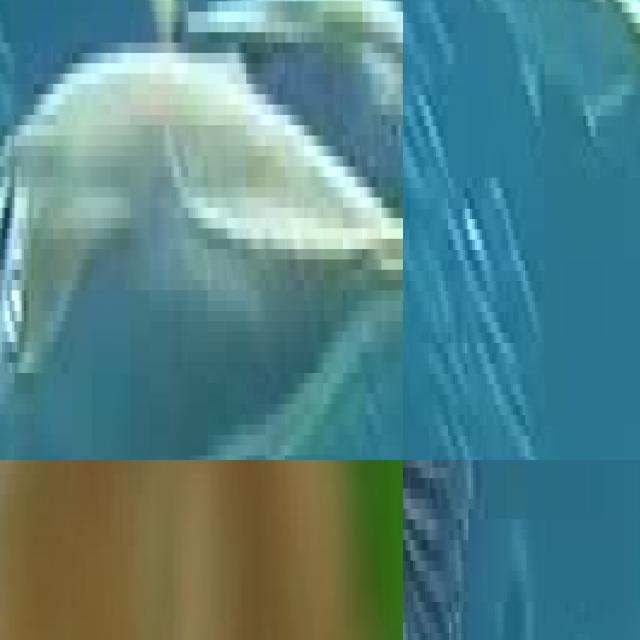fish: (0, 0, 403, 460), (460, 0, 640, 219)
